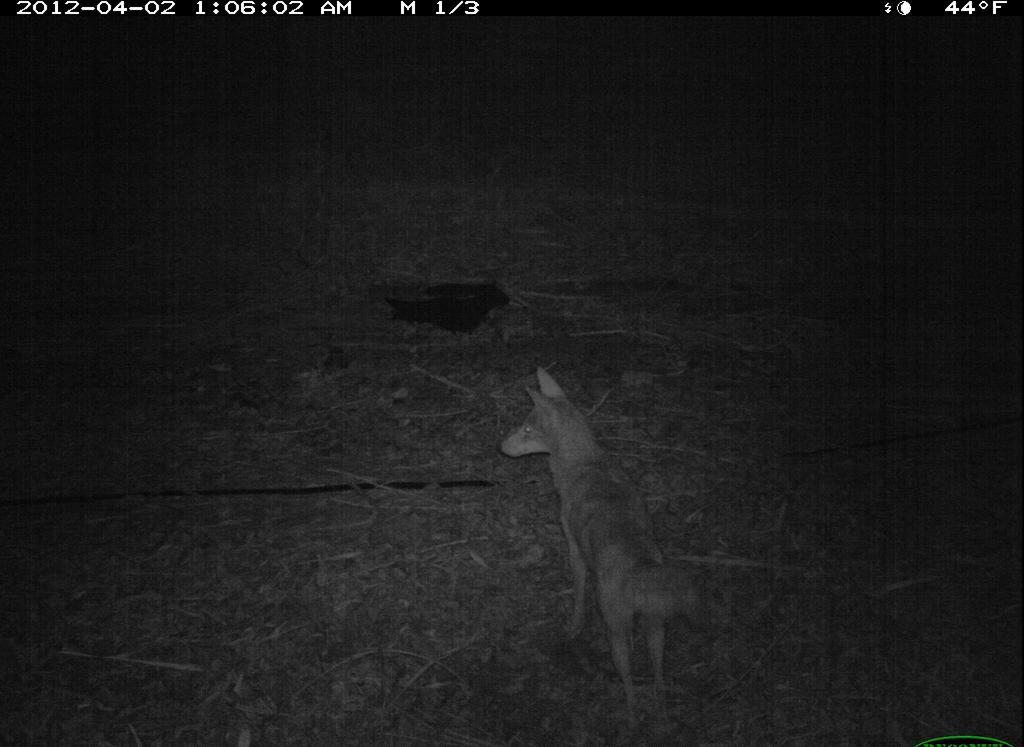coyote: (496, 363, 701, 730)
